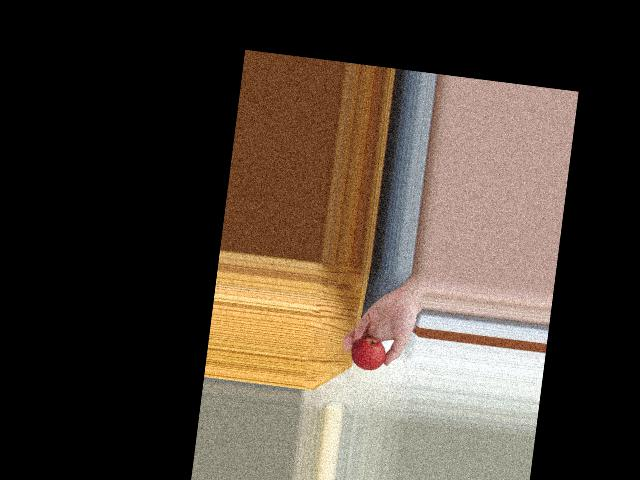apple: (348, 335, 385, 374)
